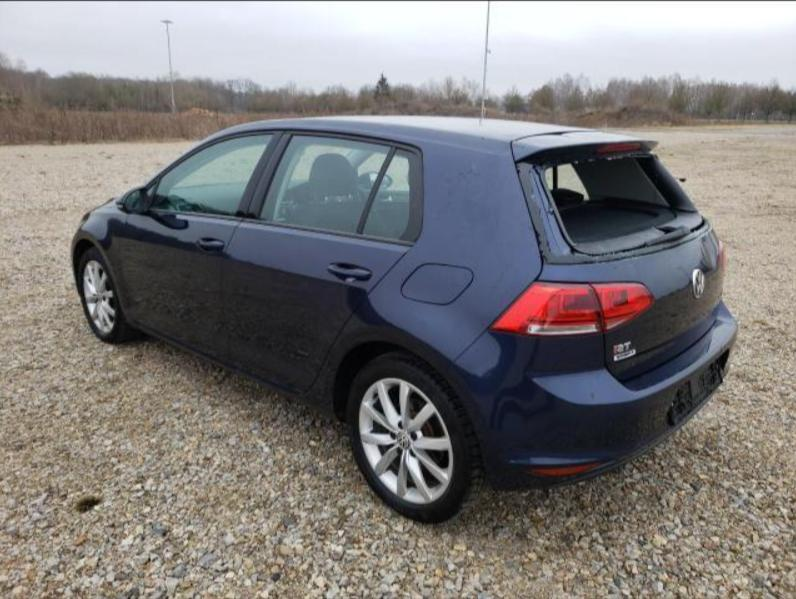Missing part: (515, 151, 709, 263), (670, 362, 721, 421)
